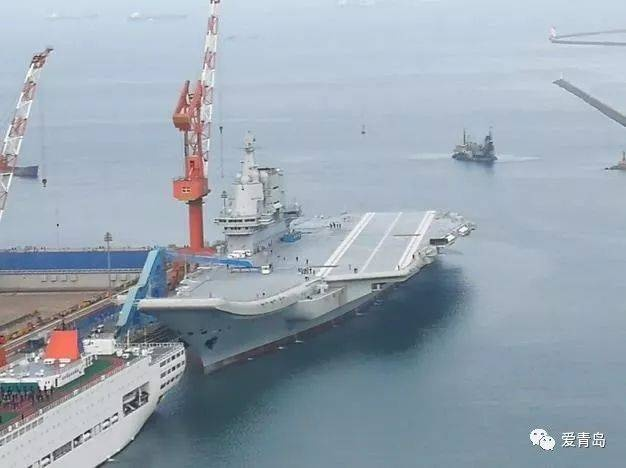otherboat: (452, 126, 507, 162)
warship: (134, 131, 472, 382)
youlun: (2, 323, 186, 463)
